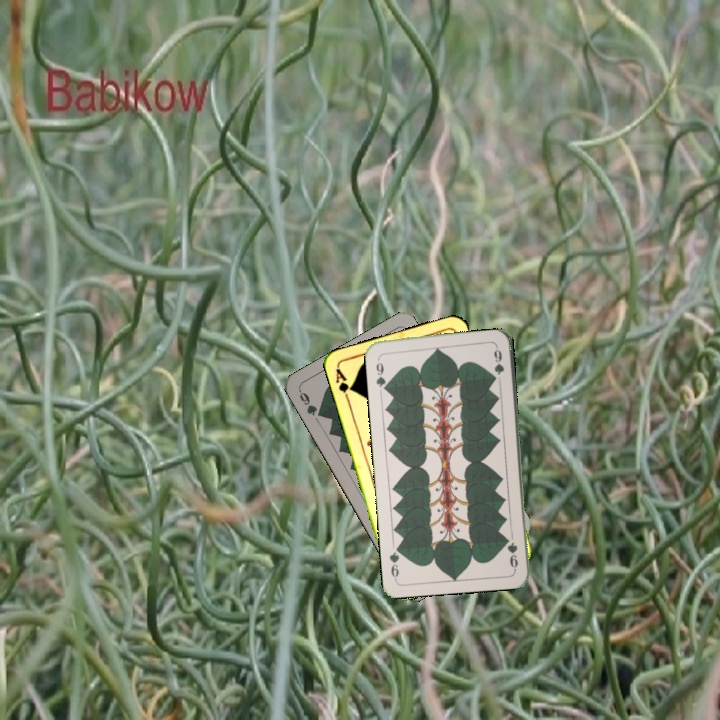G9: (295, 386, 326, 420), (372, 353, 390, 393), (504, 538, 520, 572)
GA: (332, 364, 355, 404)
